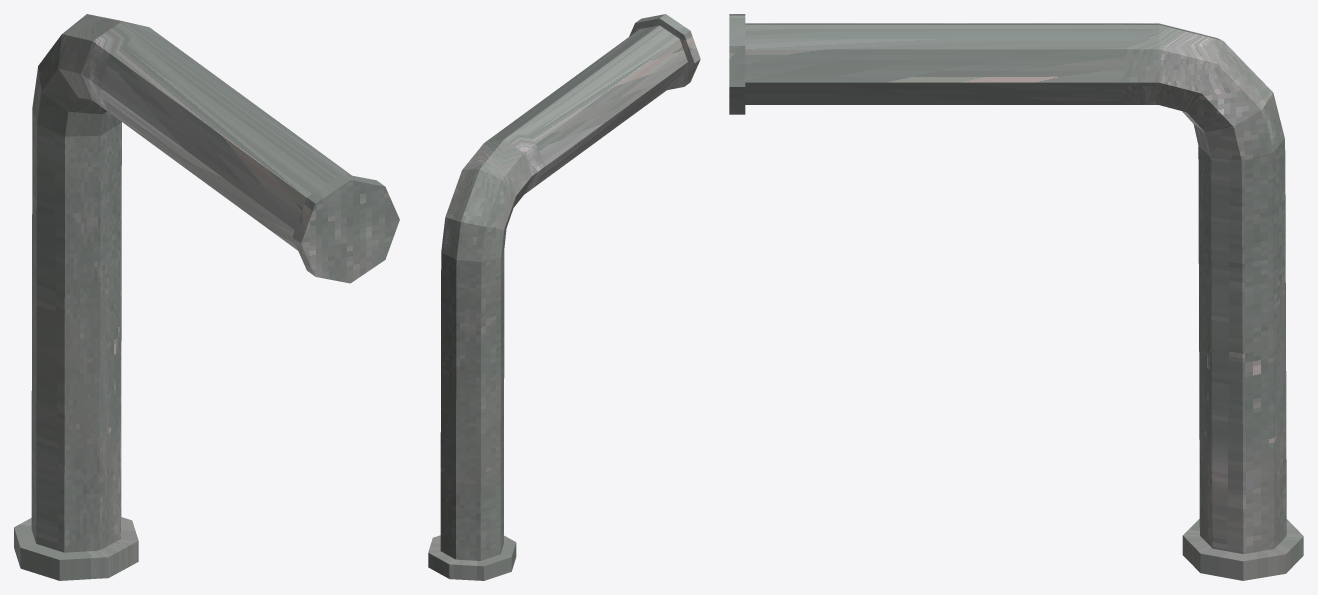
File: ceilingmetalpipecorner.glb
3 views of the same model, side by side, from view 1: azimuth 30°, elevation 25°; view 2: azimuth 150°, elevation 25°; view 3: azimuth 270°, elevation 25° (orthographic). The views are drawn at different scales.
Visible parts, largest first — view 1: PipeCorner; view 2: PipeCorner; view 3: PipeCorner.
Boxes of the visible parts, x1=… form: PipeCorner: x1=14, y1=14, x2=399, y2=580; PipeCorner: x1=428, y1=14, x2=700, y2=580; PipeCorner: x1=729, y1=14, x2=1303, y2=580.
Bounding box in the file's own units: 0.4576 × 2.25 × 2.17.
Materials: 1 (1 with a texture image).
